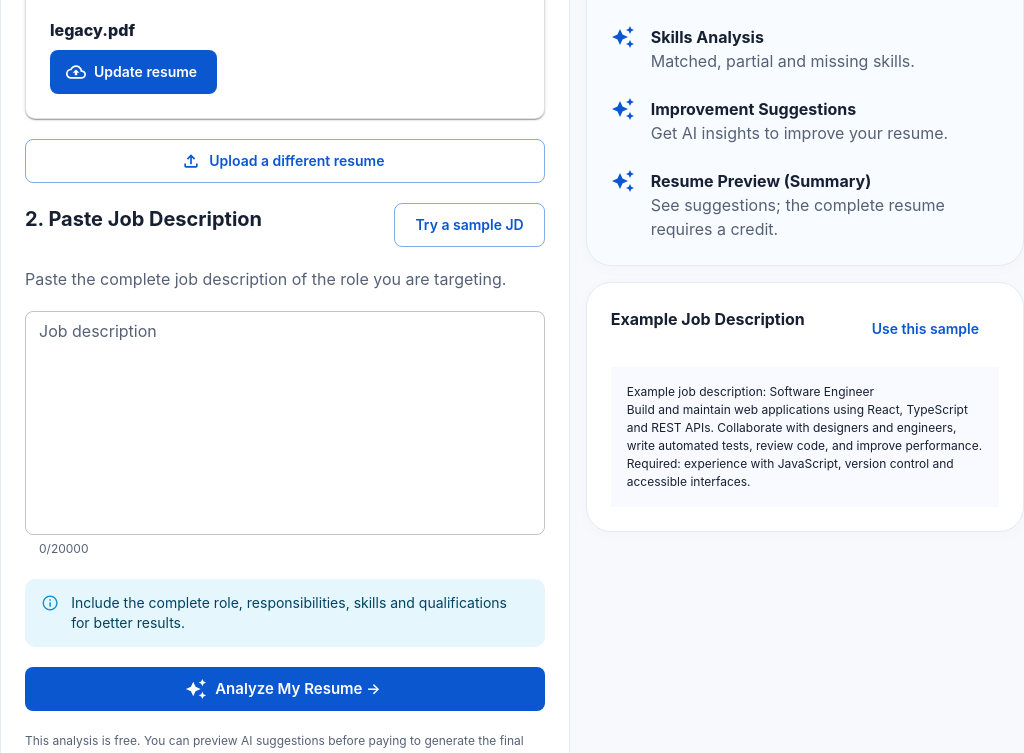
Test: AI Resume shared workflow › refreshes profile and status once and safely handles a still-missing resume ID
(page scrolled)
In the text box labelled "Job description": (285, 423) [39,320,531,526], type "A complete job description with enough information about React and TypeScript applications."
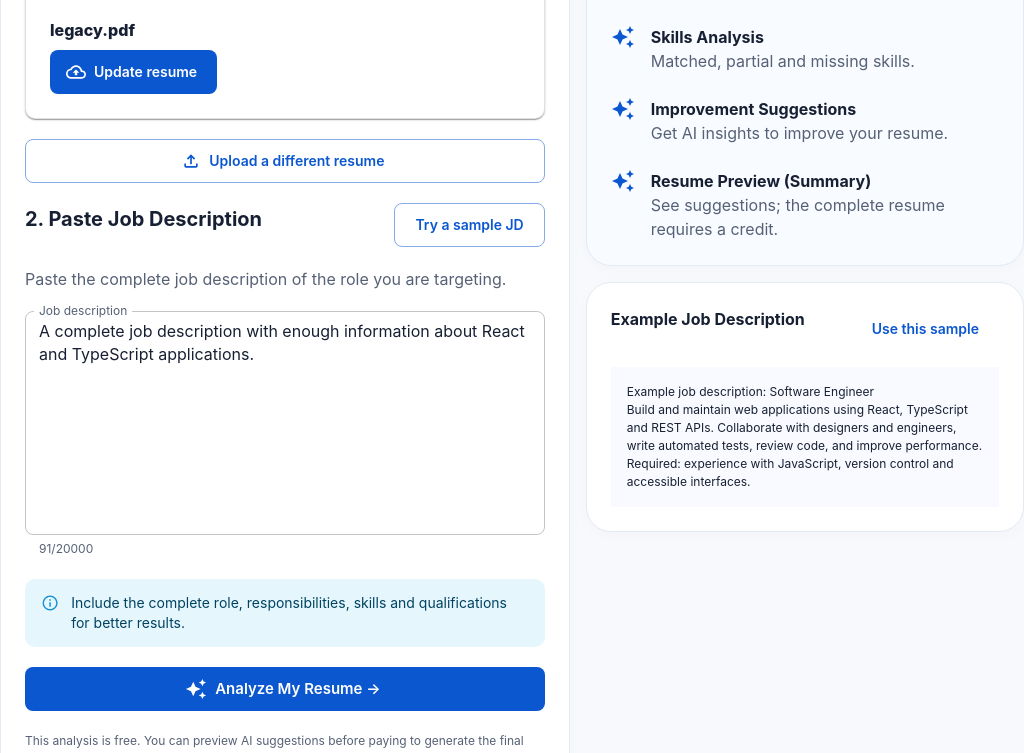
Click the button "Analyze My Resume →": click(285, 689) [25,667,545,711]
(page scrolled)
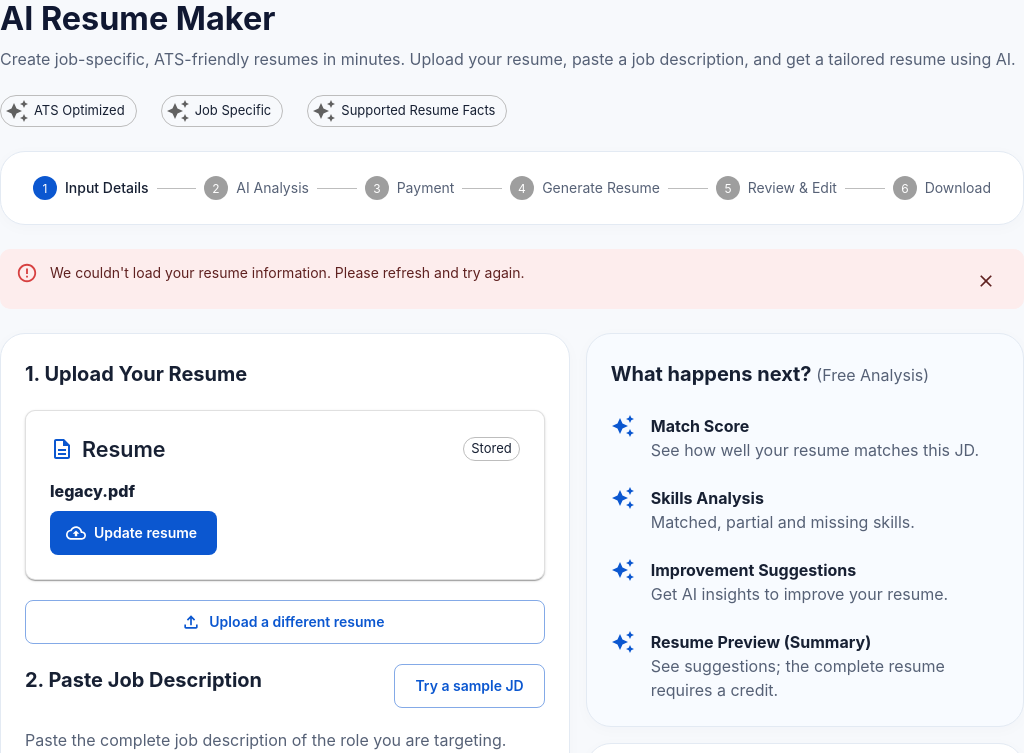
Expected: the text "We couldn't load your resume information. Please refresh and try again." is shown, [50,264,524,281]
